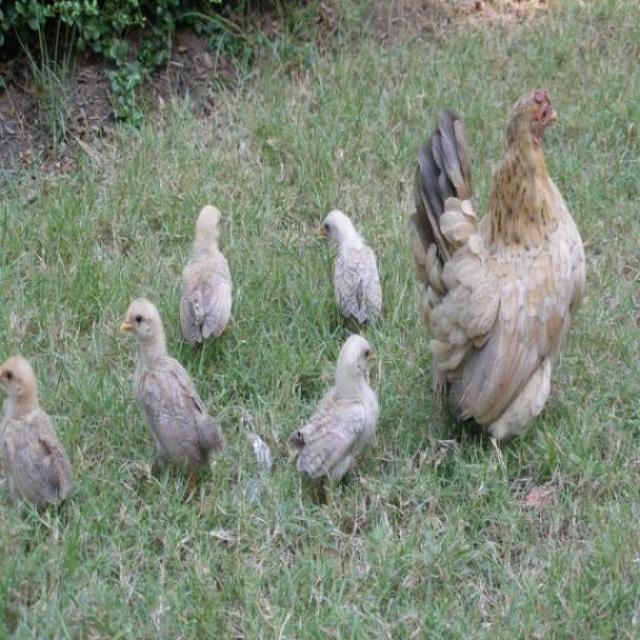Chicken: (408, 91, 586, 458), (120, 299, 228, 485), (287, 338, 380, 509), (0, 359, 75, 514), (318, 210, 383, 327), (180, 207, 232, 348)
